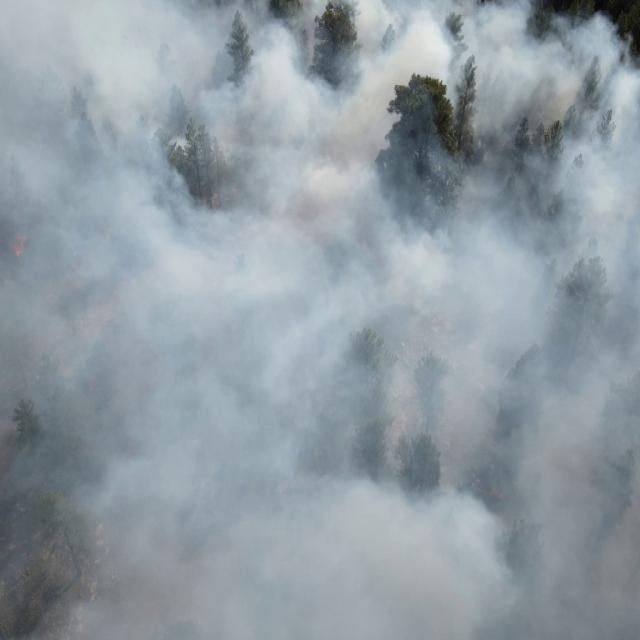fire: (471, 482, 504, 499), (9, 233, 30, 256)
smoke: (0, 0, 640, 640)
